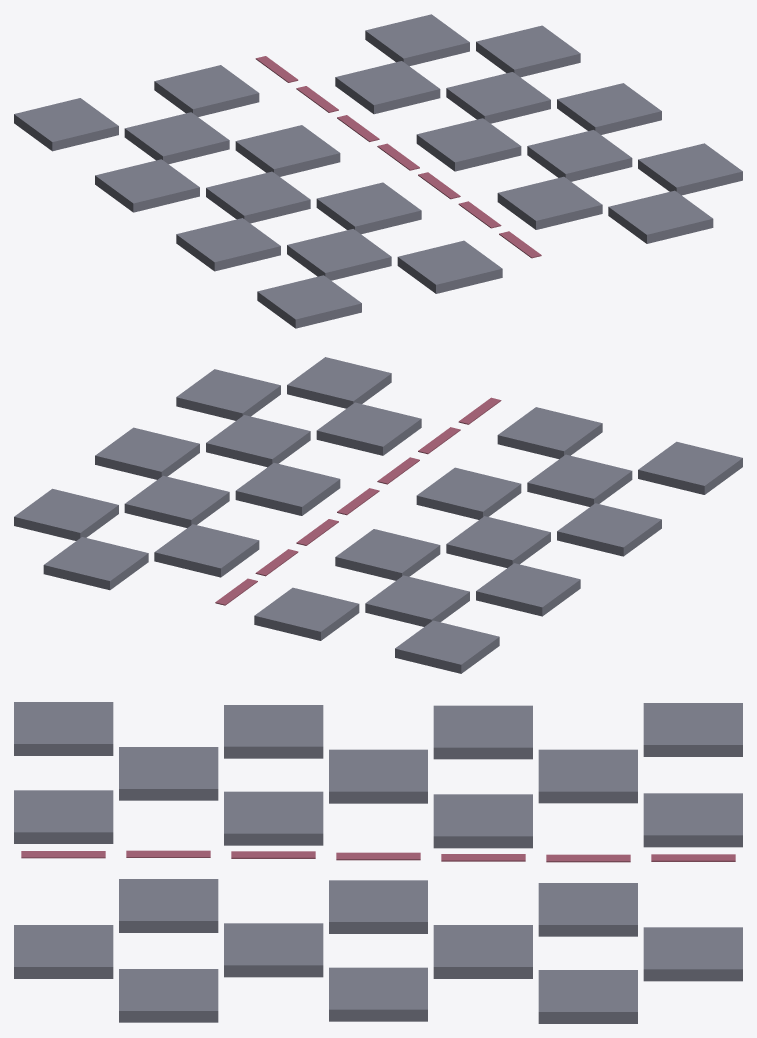
Rendered from dojo_ceremonial_court_lod1.glb.
3 renders of one model, top to bottom at view 1: azimuth 30°, elevation 25°; view 2: azimuth 150°, elevation 25°; view 3: azimuth 270°, elevation 25°, orthographic. The views are drawn at different scales.
Visible parts, largest first — view 1: dojo_ceremonial_court_019, dojo_ceremonial_court_020, dojo_ceremonial_court_010, dojo_ceremonial_court_024, dojo_ceremonial_court_018, dojo_ceremonial_court_000, dojo_ceremonial_court_001, dojo_ceremonial_court_002, dojo_ceremonial_court_003, dojo_ceremonial_court_004, dojo_ceremonial_court_007, dojo_ceremonial_court_023 (+9 smaller); view 2: dojo_ceremonial_court_020, dojo_ceremonial_court_007, dojo_ceremonial_court_018, dojo_ceremonial_court_019, dojo_ceremonial_court_021, dojo_ceremonial_court_002, dojo_ceremonial_court_000, dojo_ceremonial_court_001, dojo_ceremonial_court_003, dojo_ceremonial_court_006, dojo_ceremonial_court_009, dojo_ceremonial_court_022 (+9 smaller); view 3: dojo_ceremonial_court_007, dojo_ceremonial_court_008, dojo_ceremonial_court_009, dojo_ceremonial_court_021, dojo_ceremonial_court_023, dojo_ceremonial_court_001, dojo_ceremonial_court_004, dojo_ceremonial_court_005, dojo_ceremonial_court_026, dojo_ceremonial_court_000, dojo_ceremonial_court_002, dojo_ceremonial_court_003 (+16 smaller).
Part boxes in pixels (box(x1,y1,x2,y2)): dojo_ceremonial_court_019: box(416, 118, 521, 171); dojo_ceremonial_court_020: box(497, 176, 602, 229); dojo_ceremonial_court_010: box(397, 240, 502, 293); dojo_ceremonial_court_024: box(608, 190, 713, 243); dojo_ceremonial_court_018: box(335, 61, 440, 114); dojo_ceremonial_court_000: box(14, 98, 118, 151); dojo_ceremonial_court_001: box(95, 159, 199, 212); dojo_ceremonial_court_002: box(176, 218, 280, 271); dojo_ceremonial_court_003: box(257, 275, 361, 328); dojo_ceremonial_court_004: box(124, 112, 229, 164); dojo_ceremonial_court_007: box(154, 65, 259, 116); dojo_ceremonial_court_023: box(527, 130, 632, 181); dojo_ceremonial_court_020: box(316, 402, 421, 455); dojo_ceremonial_court_007: box(254, 587, 359, 640); dojo_ceremonial_court_018: box(154, 524, 259, 577); dojo_ceremonial_court_019: box(235, 463, 340, 515); dojo_ceremonial_court_021: box(43, 537, 148, 590); dojo_ceremonial_court_002: box(557, 503, 661, 556); dojo_ceremonial_court_000: box(395, 620, 499, 673); dojo_ceremonial_court_001: box(476, 563, 580, 616); dojo_ceremonial_court_003: box(638, 441, 742, 494); dojo_ceremonial_court_006: box(527, 454, 632, 506); dojo_ceremonial_court_009: box(416, 467, 521, 519); dojo_ceremonial_court_022: box(124, 475, 229, 527); dojo_ceremonial_court_007: box(643, 793, 742, 847); dojo_ceremonial_court_008: box(433, 794, 532, 848); dojo_ceremonial_court_009: box(224, 791, 323, 845); dojo_ceremonial_court_021: box(643, 927, 742, 981); dojo_ceremonial_court_023: box(224, 923, 323, 977); dojo_ceremonial_court_001: box(433, 705, 532, 759); dojo_ceremonial_court_004: box(538, 749, 637, 803); dojo_ceremonial_court_005: box(329, 749, 427, 803); dojo_ceremonial_court_026: box(329, 967, 427, 1021); dojo_ceremonial_court_000: box(643, 703, 742, 756); dojo_ceremonial_court_002: box(224, 705, 323, 758); dojo_ceremonial_court_003: box(14, 702, 113, 755).
Size of the model in its own units: 7.78 by 0.2112 by 7.78.
